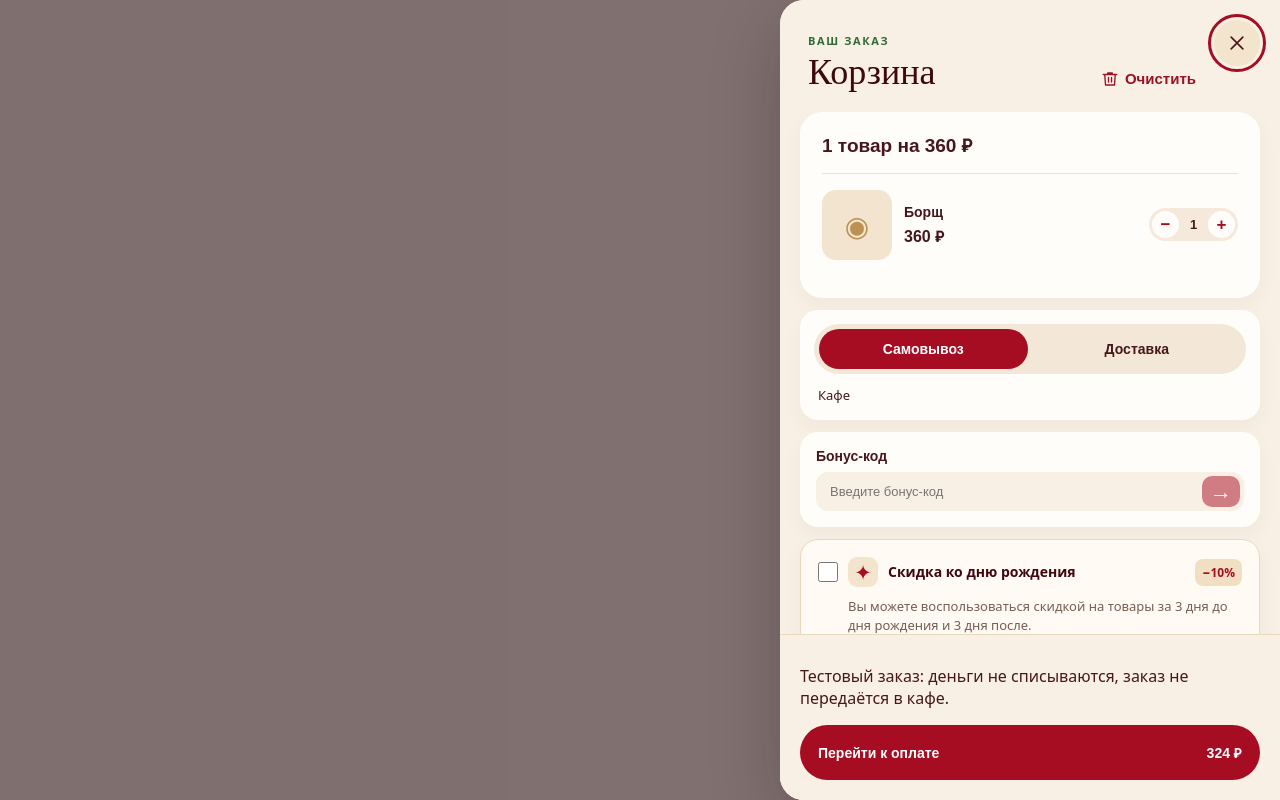
после перезагрузки продолжает тот же заказ: body-timeout
The image size is (1280, 800).
Later steps or results of the test are not shown.
Click the checkbox labelled "✦ Скидка ко дню рождения −10%" at coordinates (828, 572), box [818, 562, 838, 582]
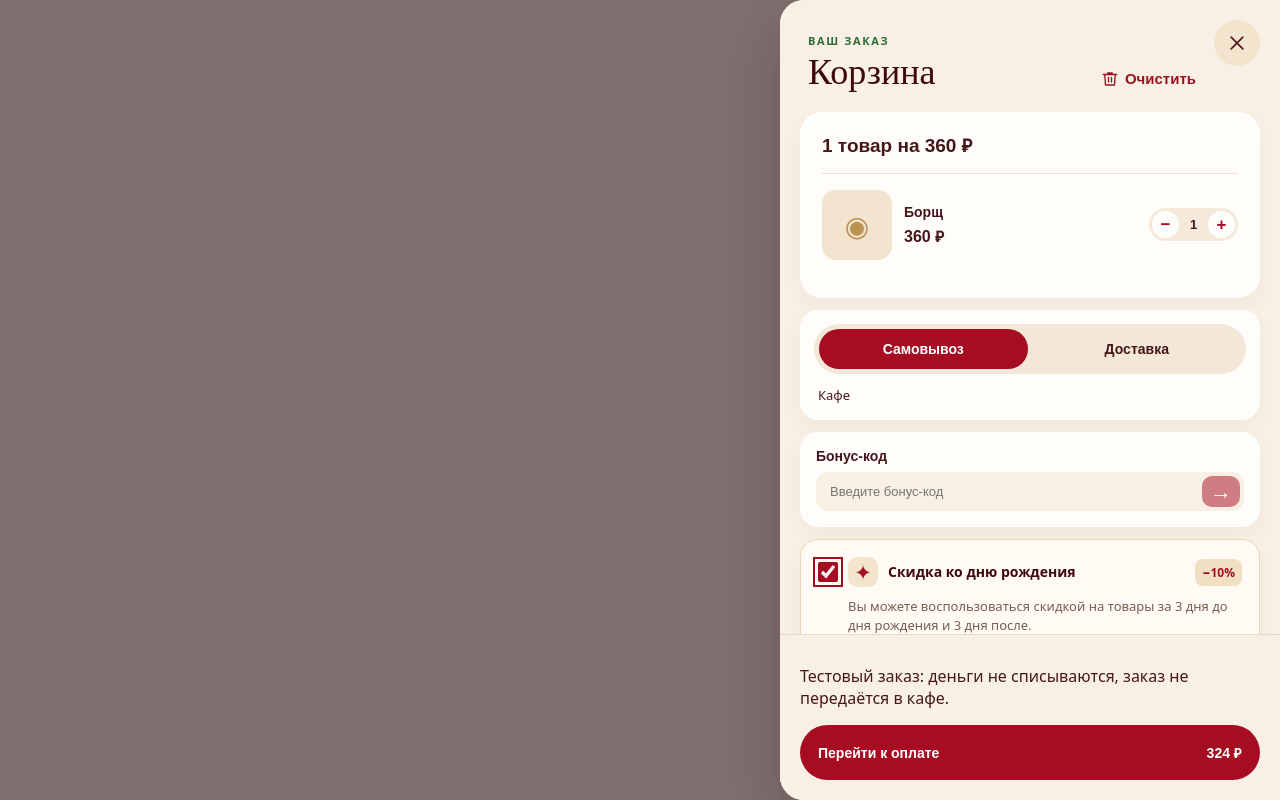
Click the button "Перейти к оплате 324 ₽" at coordinates (879, 752), box [800, 725, 1260, 780]
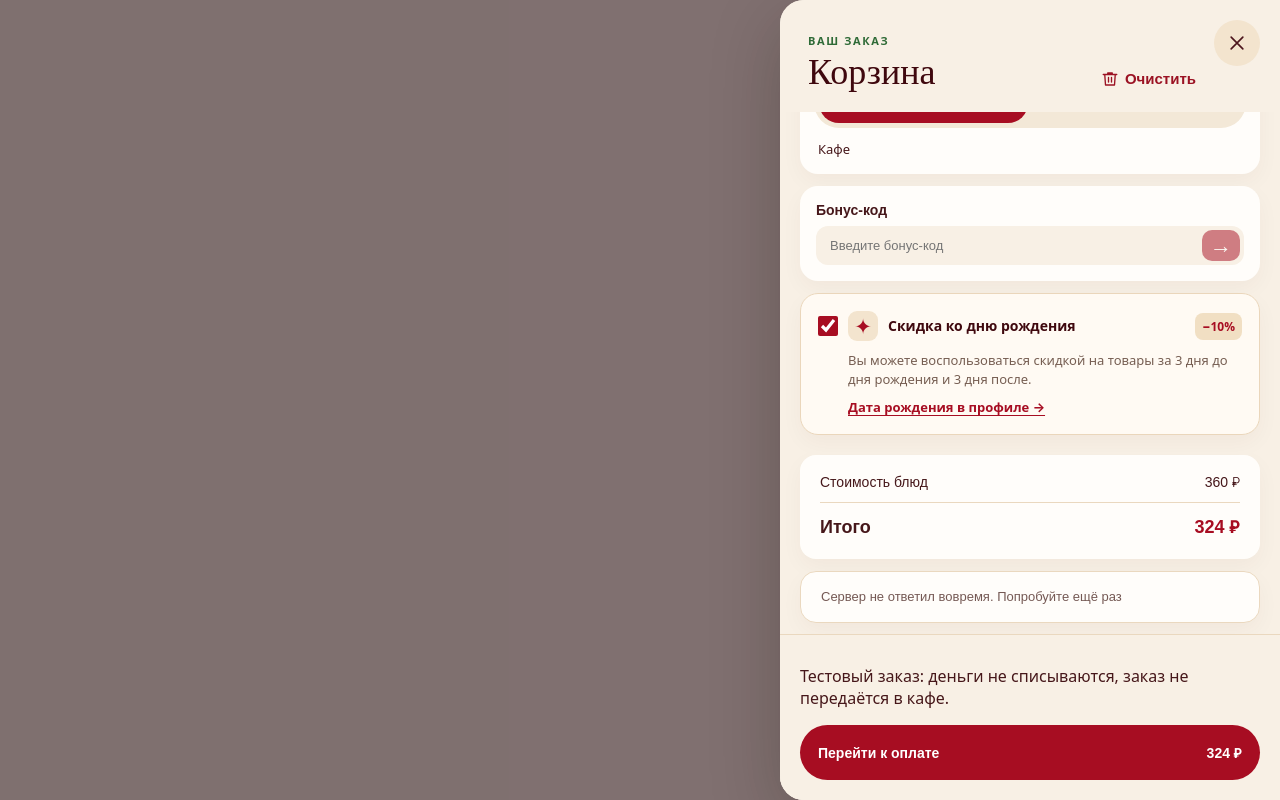
Result: the text "Сервер не ответил вовремя. Попробуйте ещё раз" is shown at [800, 570, 1260, 623]
